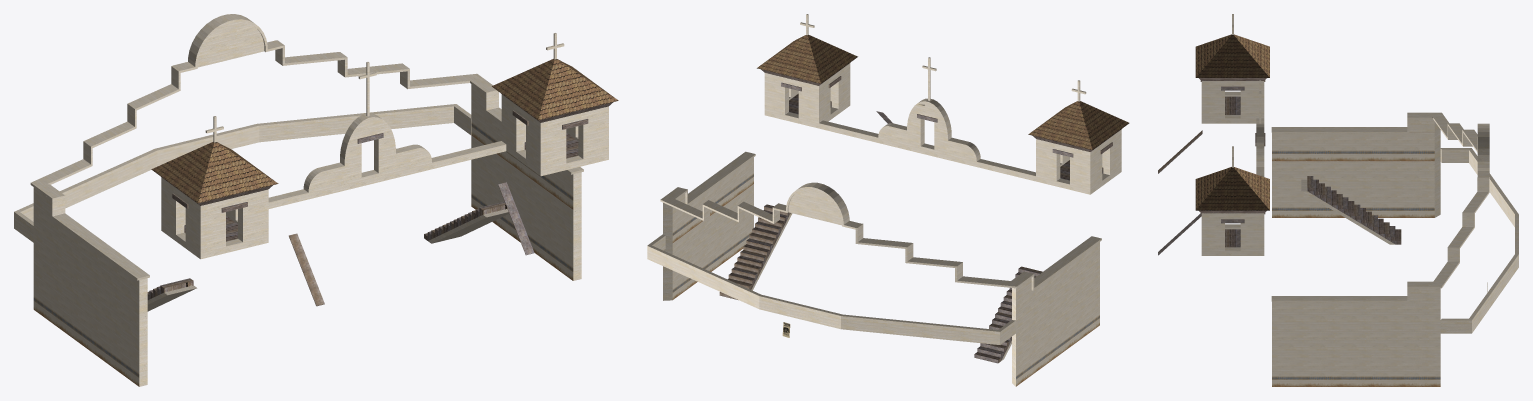
File: StaticMesh13.fbx
The picture shows the model from 3 angles, left to right: view 1: azimuth 30°, elevation 25°; view 2: azimuth 150°, elevation 25°; view 3: azimuth 270°, elevation 25°; orthographic projection. The views are drawn at different scales.
Visible parts, largest first — view 1: StaticMesh13; view 2: StaticMesh13; view 3: StaticMesh13.
Boxes of the visible parts, bbox=[...] form: StaticMesh13: bbox=[14, 14, 618, 386]; StaticMesh13: bbox=[647, 14, 1129, 386]; StaticMesh13: bbox=[1158, 14, 1518, 386].
Bounding box in the file's own units: 168000 × 99200 × 147341.
